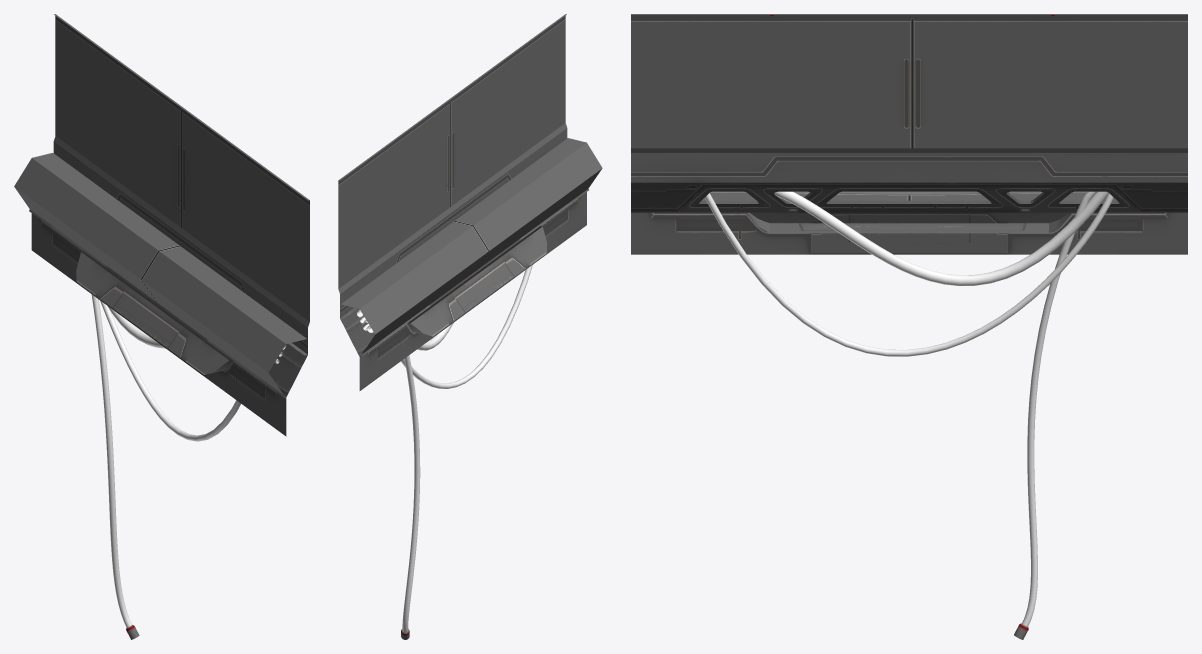
File: TopCables_Straight_Hanging.gltf
3 views of the same model, side by side, from view 1: azimuth 30°, elevation 25°; view 2: azimuth 150°, elevation 25°; view 3: azimuth 270°, elevation 25° (orthographic). The views are drawn at different scales.
Visible parts, largest first — view 1: TopCables_Straight_Hanging; view 2: TopCables_Straight_Hanging; view 3: TopCables_Straight_Hanging.
Part boxes in pixels (x1,y1,x2,y2): TopCables_Straight_Hanging: (14,14,309,639); TopCables_Straight_Hanging: (338,14,602,639); TopCables_Straight_Hanging: (631,14,1187,639).
Size of the model in its own units: 0.4421 by 4.94 by 4.
4 materials, 3 textured.
